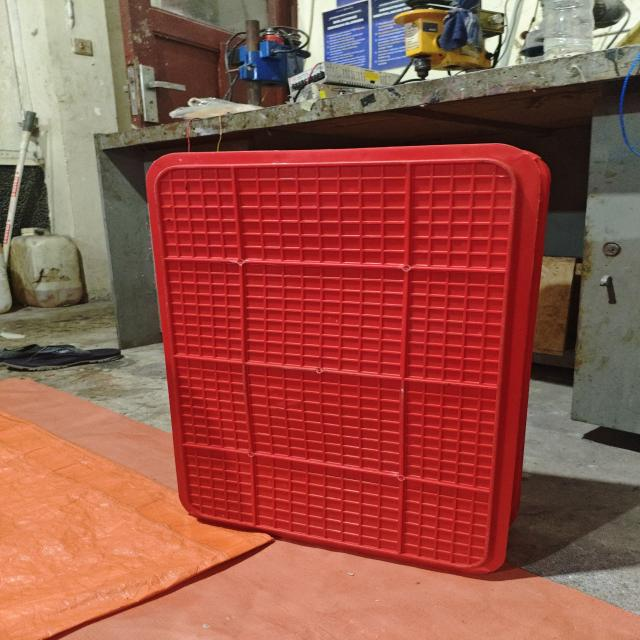red plastic box: (146, 143, 551, 574)
